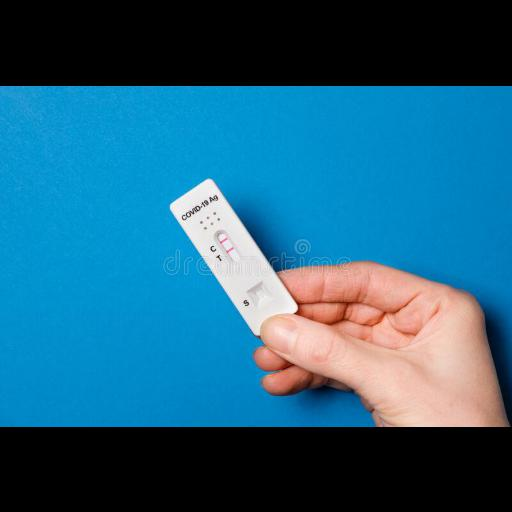Pos: (170, 177, 301, 336)
